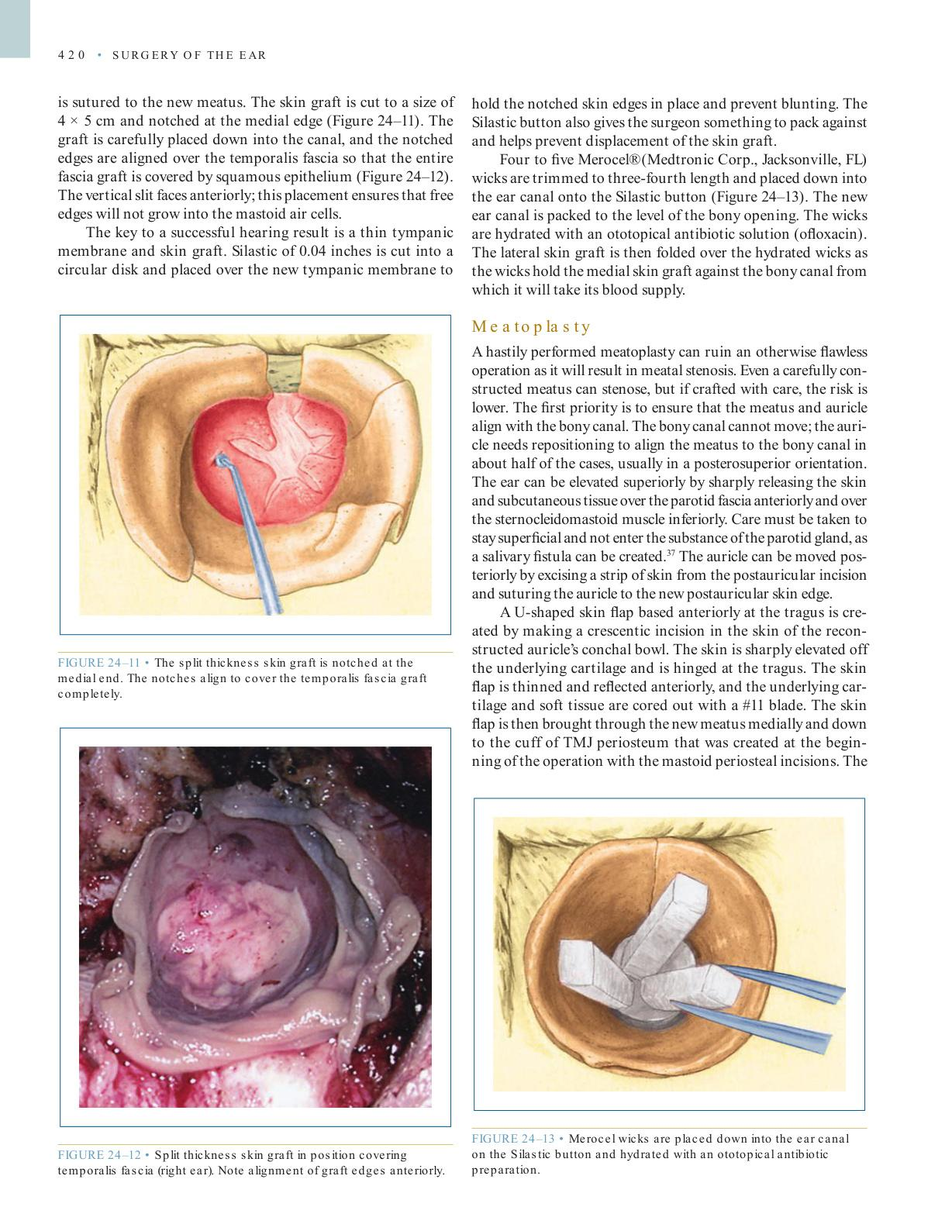caption: (470, 1131, 853, 1180), (56, 654, 429, 703), (55, 1147, 449, 1179)
header: (112, 49, 268, 61)
image: (64, 732, 448, 1123), (64, 318, 448, 631), (479, 802, 861, 1105)
section-heading: (470, 317, 592, 338)
text: (470, 342, 872, 771), (470, 93, 872, 302), (56, 94, 456, 279)
